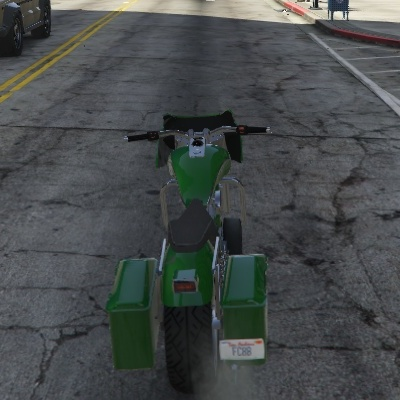off: (166, 261, 208, 301)
